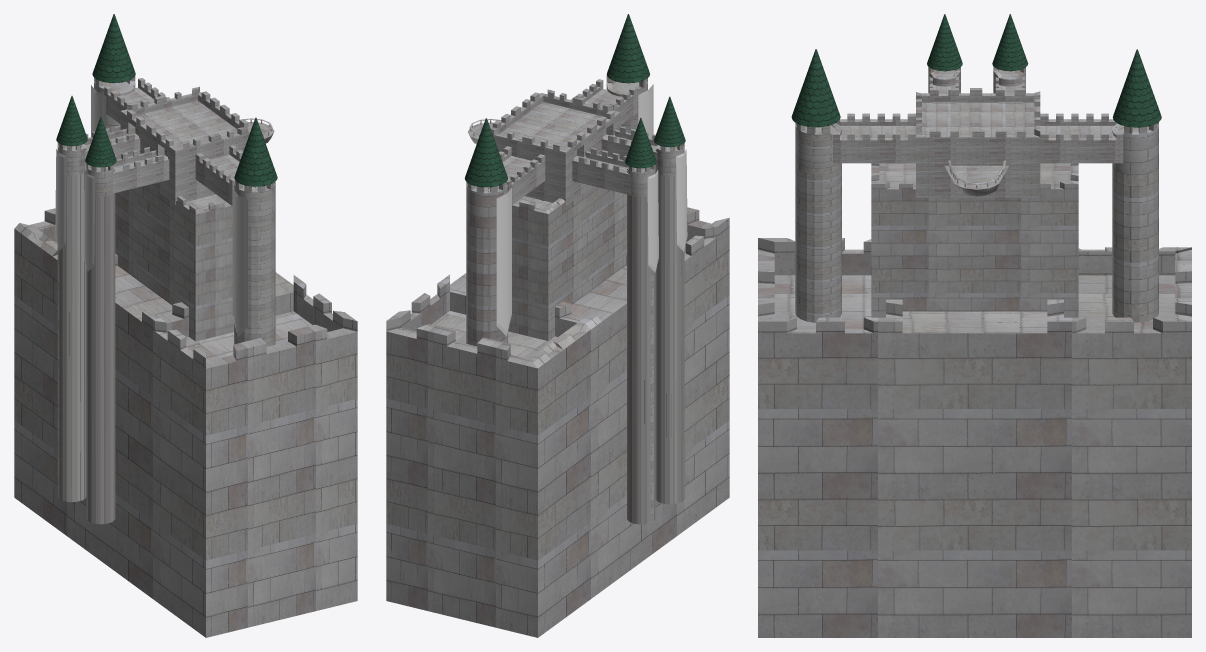
Rendered from MenuPrincipal.FBX.
3 views of the same model, side by side, from view 1: azimuth 30°, elevation 25°; view 2: azimuth 150°, elevation 25°; view 3: azimuth 270°, elevation 25° (orthographic). The views are drawn at different scales.
Parts seen in each view (by area): view 1: Box038, Box001, Box037, Cylinder001, Cylinder003, Cylinder004, Rectangle001, Cone001, Cone004, Rectangle003, Rectangle002, Cone002 (+3 smaller); view 2: Box038, Box001, Box037, Cylinder001, Cylinder003, Cylinder005, Rectangle004, Cone004, Cone001, Rectangle002, Rectangle003, Cone003 (+3 smaller); view 3: Box038, Box037, Box001, Cylinder004, Cylinder005, Cone001, Cone004, Sphere017, Cone003, Cone002.
Boxes of the visible parts, x1,y1,x2,y2 form: Box038: [14, 208, 357, 637]; Box001: [84, 78, 251, 205]; Box037: [115, 185, 233, 341]; Cylinder001: [86, 163, 115, 524]; Cylinder003: [57, 142, 86, 502]; Cylinder004: [234, 180, 275, 346]; Rectangle001: [232, 189, 247, 337]; Cone001: [234, 117, 277, 186]; Cone004: [92, 14, 135, 83]; Rectangle003: [55, 149, 66, 251]; Rectangle002: [83, 169, 95, 272]; Cone002: [85, 117, 116, 167]; Box038: [386, 207, 729, 637]; Box001: [490, 79, 657, 205]; Box037: [508, 186, 626, 340]; Cylinder001: [655, 143, 684, 504]; Cylinder003: [627, 164, 655, 524]; Cylinder005: [466, 182, 507, 346]; Rectangle004: [496, 188, 511, 336]; Cone004: [464, 118, 507, 187]; Cone001: [607, 14, 649, 83]; Rectangle002: [676, 149, 687, 251]; Rectangle003: [647, 170, 658, 272]; Cone003: [625, 118, 656, 168]; Box038: [758, 238, 1191, 637]; Box037: [871, 163, 1078, 317]; Box001: [833, 76, 1123, 197]; Cylinder004: [795, 122, 841, 322]; Cylinder005: [1112, 122, 1158, 322]; Cone001: [791, 49, 840, 127]; Cone004: [1112, 49, 1161, 127]; Sphere017: [944, 165, 1008, 197]; Cone003: [992, 14, 1028, 71]; Cone002: [927, 14, 962, 71].
Bounding box in the file's own units: 126 × 291 × 209.
